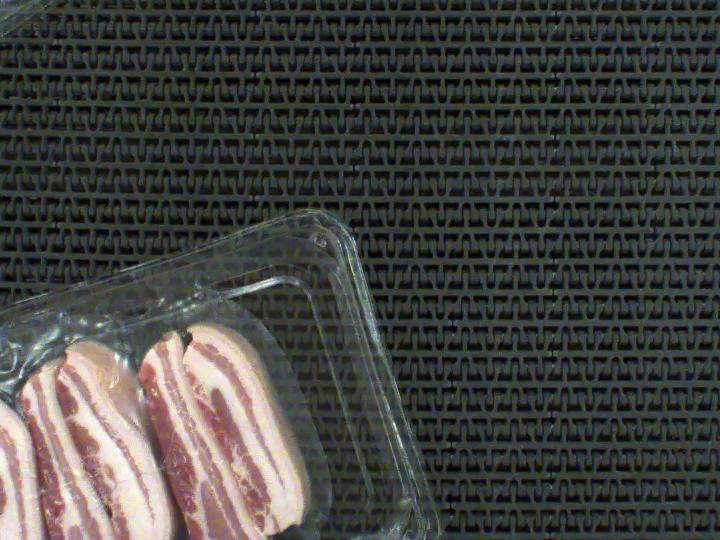unsealed: (0, 312, 255, 540)
